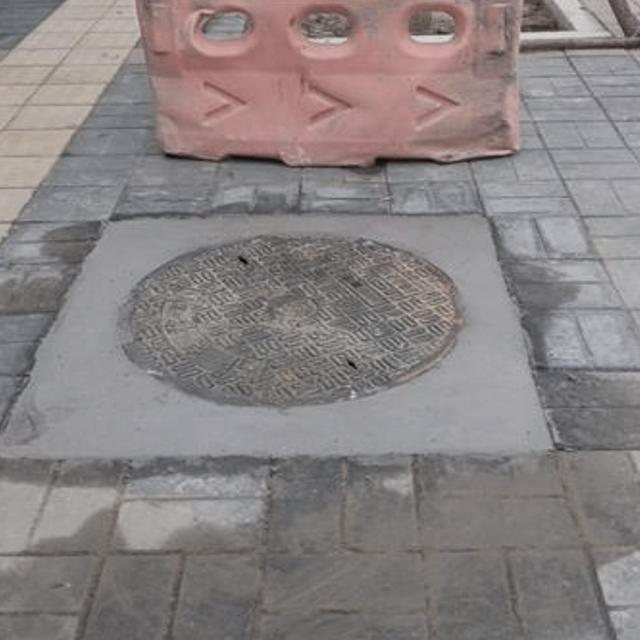good: (27, 192, 566, 498)
